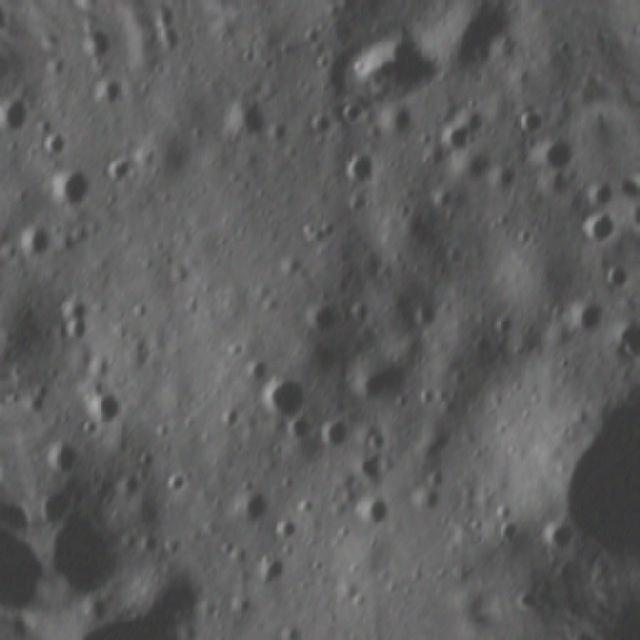crater: (546, 386, 640, 583), (56, 566, 230, 640), (348, 27, 446, 107), (47, 514, 124, 612), (257, 374, 318, 431), (41, 164, 96, 216), (577, 206, 628, 260), (36, 481, 84, 530), (56, 294, 99, 344), (296, 299, 344, 343), (0, 90, 38, 144), (228, 92, 269, 142), (247, 551, 295, 591), (312, 414, 356, 457), (567, 301, 608, 345), (534, 135, 580, 174), (230, 486, 272, 528), (535, 518, 577, 559), (86, 74, 131, 111), (338, 148, 384, 184), (351, 494, 395, 531), (93, 386, 130, 429), (42, 540, 62, 618), (44, 440, 82, 480), (579, 174, 618, 211), (34, 130, 75, 165), (609, 321, 640, 367), (238, 353, 276, 390), (517, 98, 551, 139), (598, 256, 632, 296), (20, 225, 54, 264), (583, 94, 608, 146), (160, 466, 198, 500), (442, 120, 480, 154), (265, 514, 304, 544), (303, 109, 337, 143), (285, 412, 317, 448), (336, 97, 372, 129), (352, 454, 390, 484), (492, 521, 522, 553), (362, 425, 391, 458), (214, 403, 243, 434), (502, 586, 546, 606), (267, 120, 298, 148), (416, 304, 444, 334), (493, 312, 522, 339), (492, 500, 516, 526), (632, 258, 640, 287)
